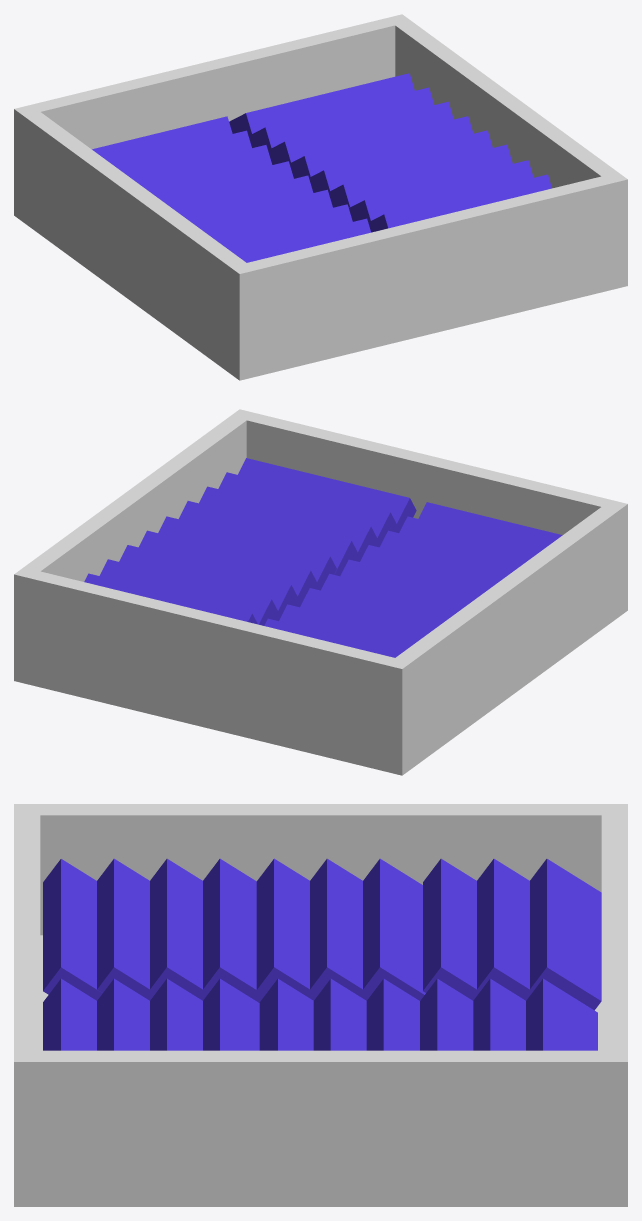
The model's file is Basket_2.fbx.
The picture shows the model from 3 angles, top to bottom: view 1: azimuth 30°, elevation 25°; view 2: azimuth 150°, elevation 25°; view 3: azimuth 270°, elevation 25°; orthographic projection. The views are drawn at different scales.
Parts seen in each view (by area): view 1: Basket 2; view 2: Basket 2; view 3: Basket 2.
Boxes of the visible parts, left/top/right/bottom form: Basket 2: left=14, top=14, right=627, bottom=380; Basket 2: left=14, top=409, right=627, bottom=775; Basket 2: left=14, top=804, right=627, bottom=1206.
Size of the model in its own units: 23.38 by 6.14 by 23.54.
